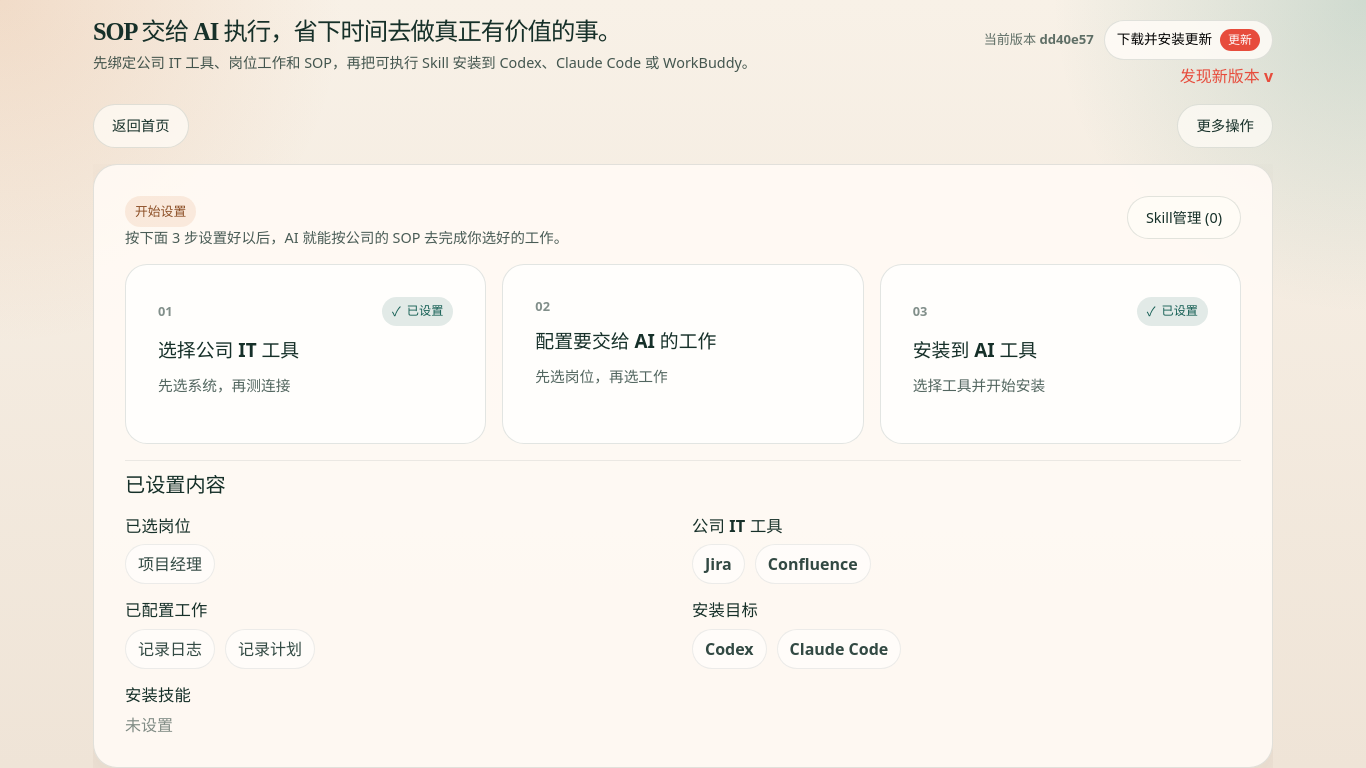
Test: OnboardingShell › auto-opens the 工作配置 first-run guide on first entry
Expected: the button "01 已设置 选择公司 IT 工具 先选系统，再测连接" is shown, [125,264,486,444]
Click the button "02 配置要交给 AI 的工作 先选岗位，再选工作". click: x=683, y=354
box: [502,264,864,444]
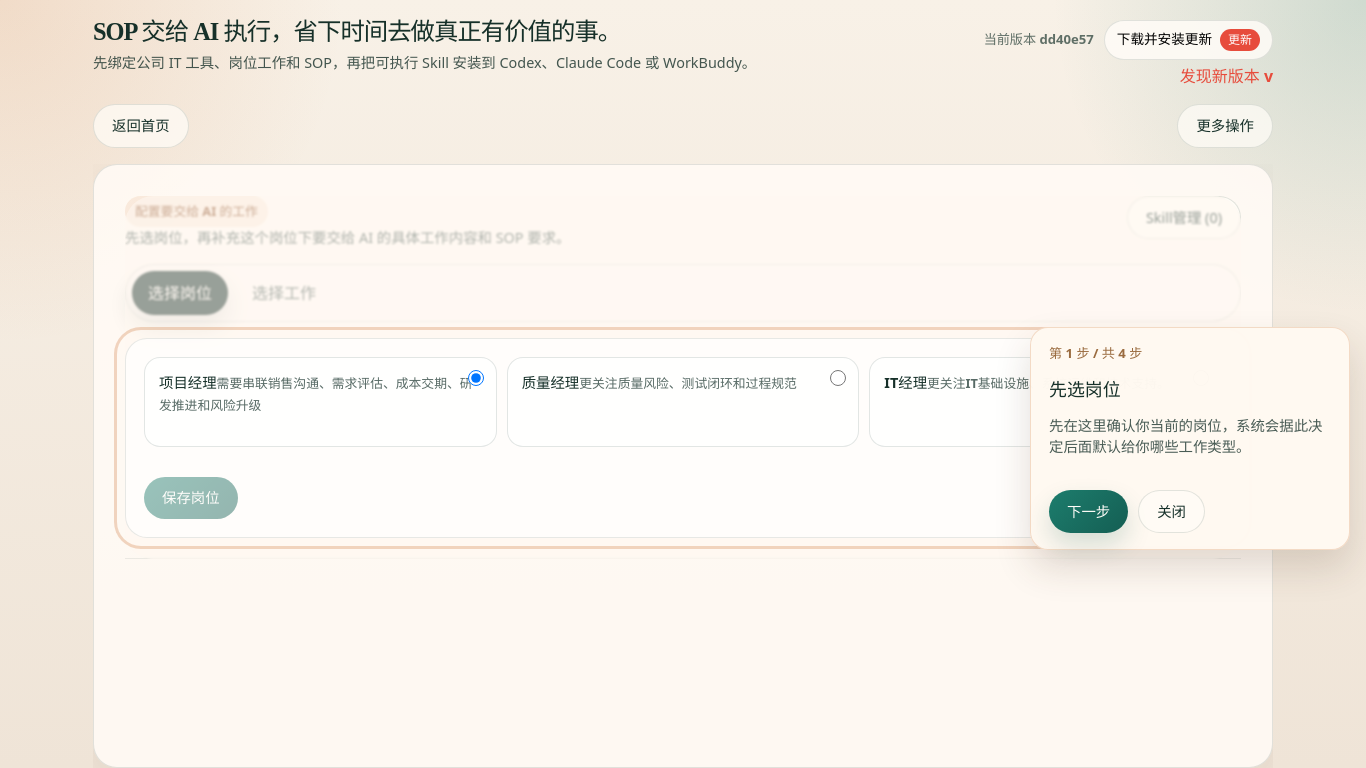
Now the heading "先选岗位" is shown, box [1049,377,1121,401]
